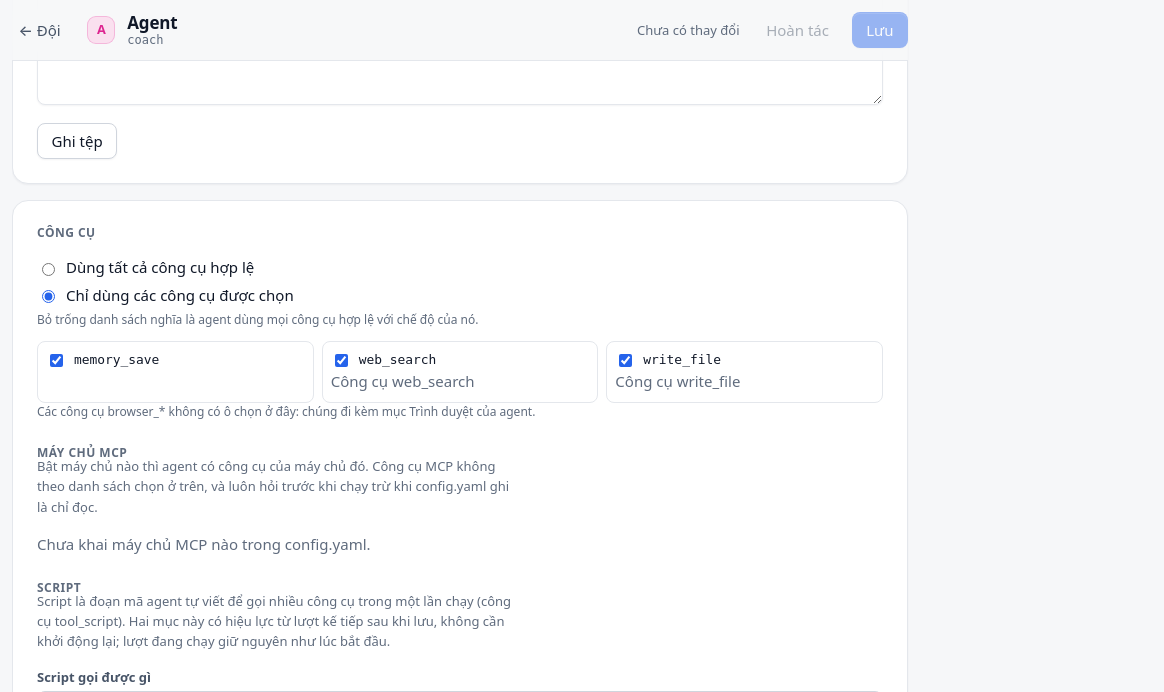
Test: a row unticked and ticked again › leaves nothing to save: web_search is back where the file's list has it
(page scrolled)
Click the checkbox labelled "web_search" at (341, 360), box [335, 354, 348, 367]
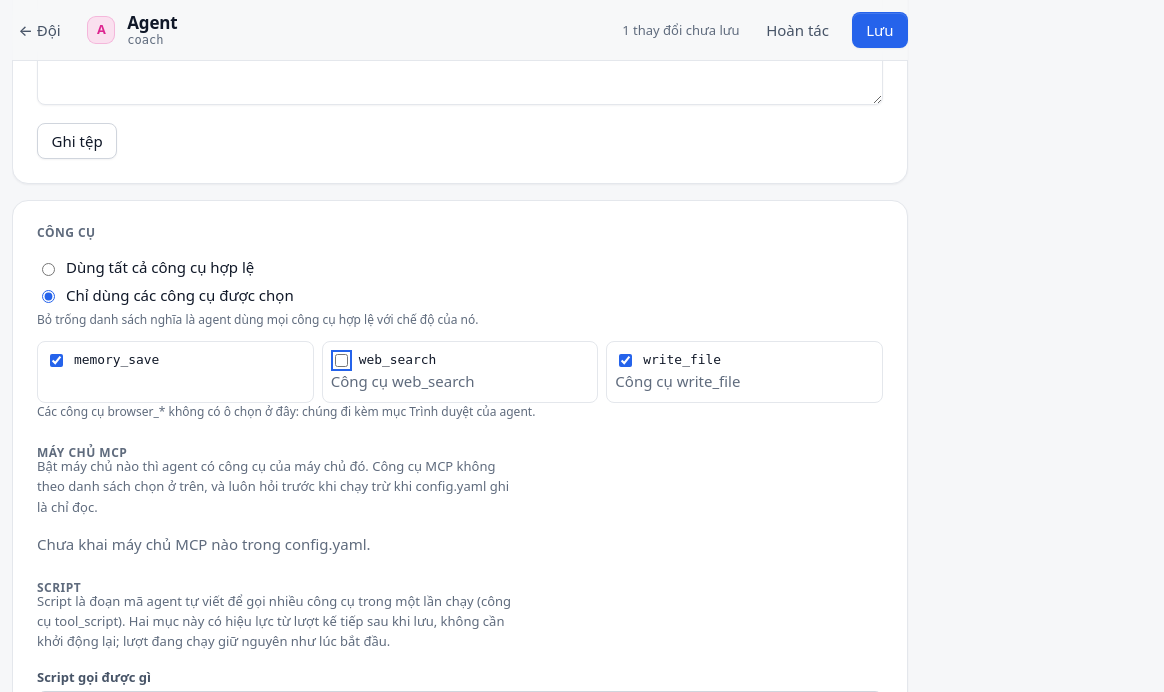
Click the checkbox labelled "web_search" at (341, 360), box [335, 354, 348, 367]
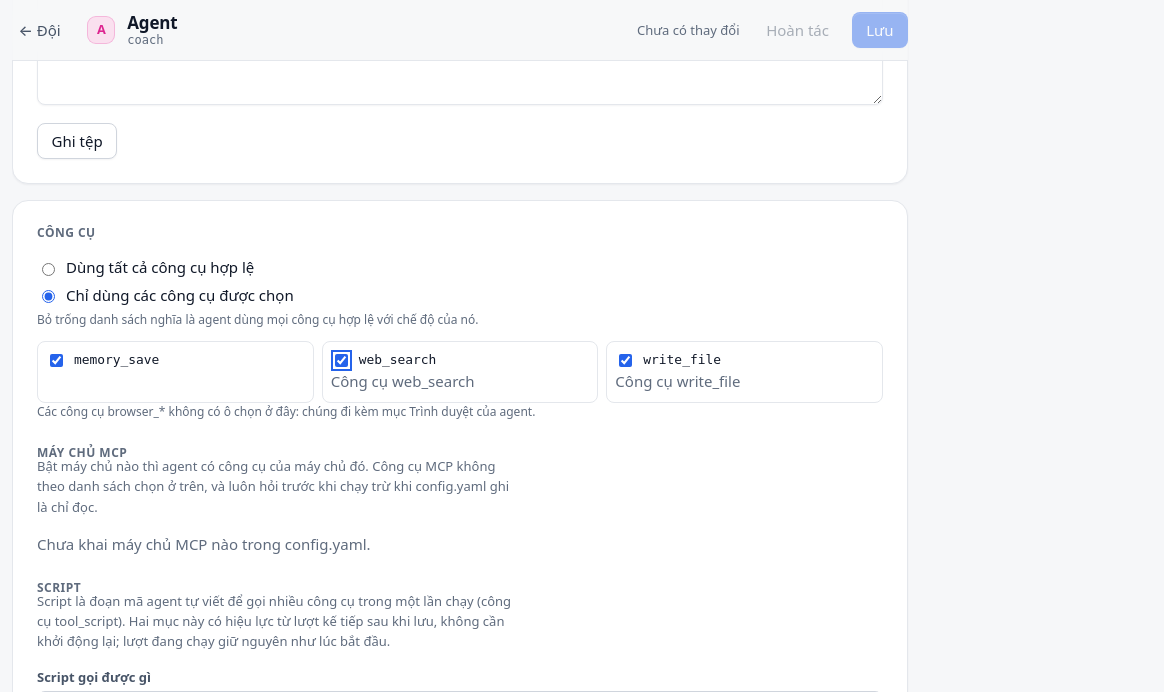
Expected: the text "Chưa có thay đổi" is shown, [637, 20, 740, 40]
Expected: the button "Lưu" is disabled, [852, 12, 908, 48]
